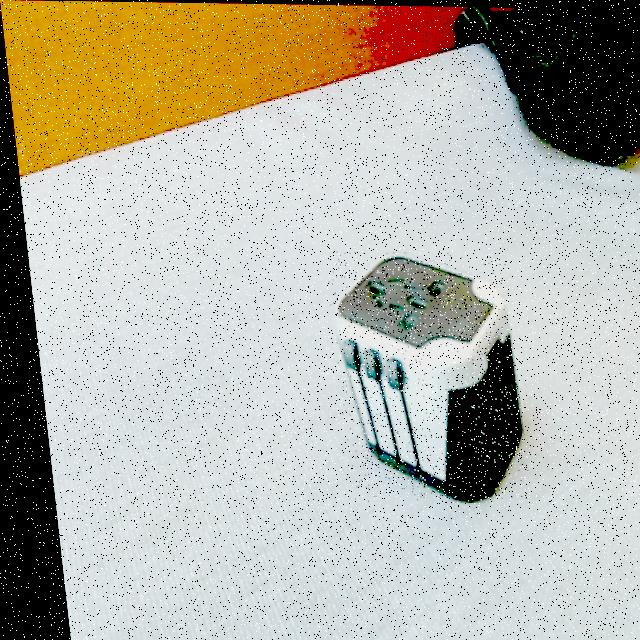adapter: (319, 249, 520, 503)
